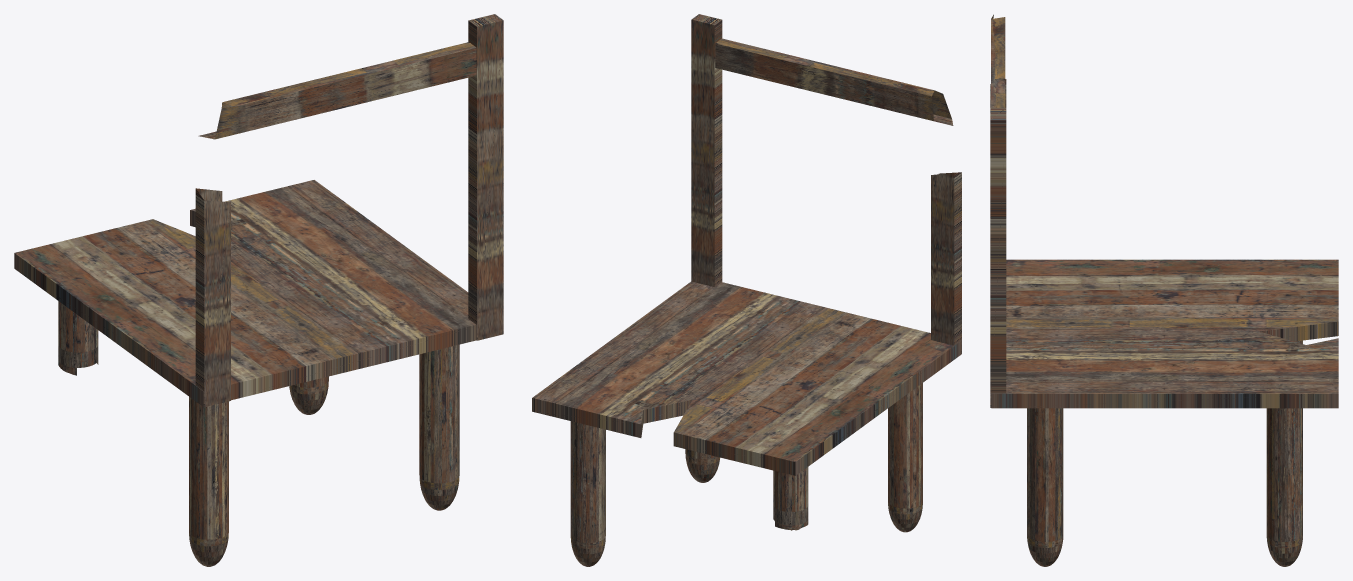
The model's file is Broken Chair.fbx.
The picture shows the model from 3 angles, left to right: view 1: azimuth 30°, elevation 25°; view 2: azimuth 150°, elevation 25°; view 3: azimuth 270°, elevation 25°; orthographic projection. The views are drawn at different scales.
Parts seen in each view (by area): view 1: Plane, Plane.001, Sphere, Plane.004; view 2: Plane, Plane.001, Sphere, Plane.004; view 3: Plane, Sphere, Plane.001, Plane.004.
Part boxes in pixels (x1,y1,x2,y2): Plane: (14,180,476,406); Plane.001: (195,14,503,407); Sphere: (58,301,459,566); Plane.004: (198,42,476,139); Plane: (532,281,961,475); Plane.001: (691,14,961,353); Sphere: (570,383,922,566); Plane.004: (715,38,953,125); Plane: (991,259,1338,408); Sphere: (1027,340,1302,566); Plane.001: (990,79,1006,407); Plane.004: (991,14,1005,107).
Bounding box in the file's own units: 576 × 923 × 631.
